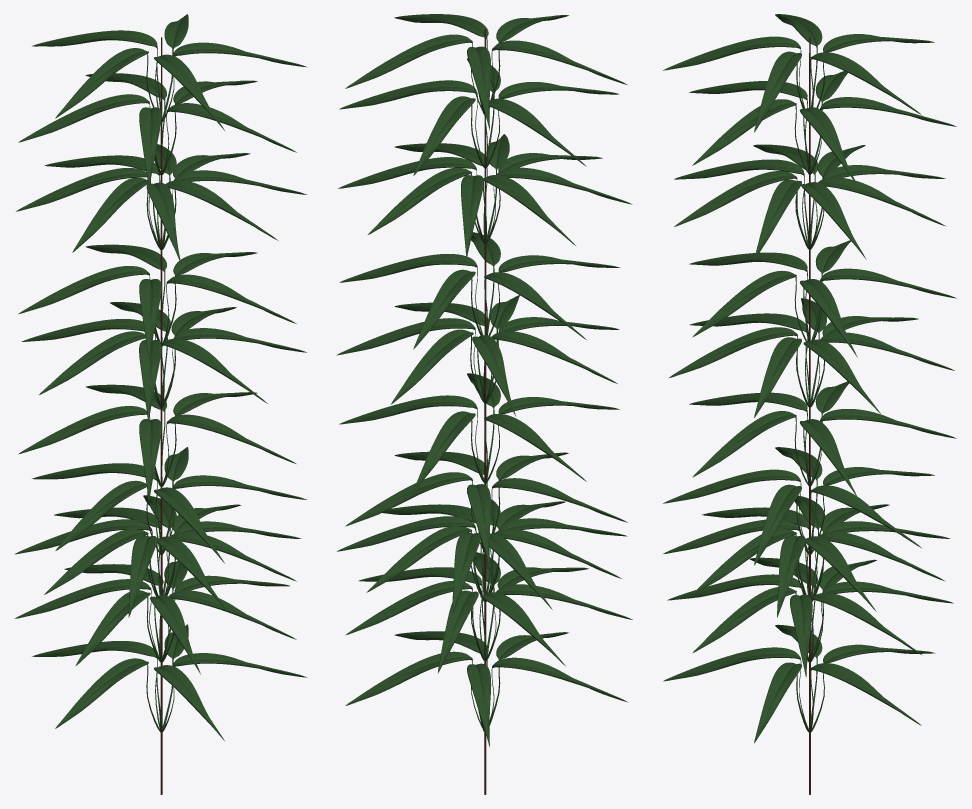
File: plant2.fbx
3 renders of one model, left to right at view 1: azimuth 30°, elevation 25°; view 2: azimuth 150°, elevation 25°; view 3: azimuth 270°, elevation 25°, orthographic.
Parts seen in each view (by area): view 1: Circle.022, Circle.021, Circle.019, Circle.014, Circle.020, Circle.017, Circle.015, Circle.016, Circle.012, Circle.018, plant2; view 2: Circle.022, Circle.021, Circle.019, Circle.014, Circle.017, Circle.016, Circle.020, Circle.018, Circle.012, Circle.015, plant2; view 3: Circle.022, Circle.021, Circle.019, Circle.014, Circle.020, Circle.017, Circle.016, Circle.015, Circle.012, Circle.018, plant2.
Boxes of the visible parts, x1=… form: Circle.022: x1=15, y1=495, x2=301, y2=617; Circle.021: x1=16, y1=144, x2=306, y2=264; Circle.019: x1=21, y1=302, x2=306, y2=422; Circle.014: x1=14, y1=561, x2=296, y2=674; Circle.020: x1=32, y1=14, x2=307, y2=130; Circle.017: x1=18, y1=244, x2=296, y2=361; Circle.015: x1=32, y1=447, x2=306, y2=563; Circle.016: x1=18, y1=384, x2=296, y2=501; Circle.012: x1=32, y1=624, x2=306, y2=740; Circle.018: x1=18, y1=73, x2=296, y2=189; plant2: x1=160, y1=37, x2=162, y2=794; Circle.022: x1=337, y1=492, x2=627, y2=615; Circle.021: x1=337, y1=134, x2=632, y2=258; Circle.019: x1=336, y1=295, x2=619, y2=416; Circle.014: x1=345, y1=552, x2=632, y2=673; Circle.017: x1=339, y1=232, x2=620, y2=349; Circle.016: x1=339, y1=373, x2=619, y2=490; Circle.020: x1=345, y1=14, x2=627, y2=130; Circle.018: x1=339, y1=58, x2=619, y2=175; Circle.012: x1=345, y1=631, x2=627, y2=747; Circle.015: x1=345, y1=451, x2=627, y2=567; plant2: x1=484, y1=29, x2=486, y2=794; Circle.022: x1=662, y1=495, x2=950, y2=617; Circle.021: x1=674, y1=144, x2=945, y2=260; Circle.019: x1=668, y1=298, x2=954, y2=417; Circle.014: x1=667, y1=557, x2=953, y2=677; Circle.020: x1=663, y1=14, x2=934, y2=132; Circle.017: x1=689, y1=240, x2=956, y2=357; Circle.016: x1=689, y1=381, x2=956, y2=497; Circle.015: x1=663, y1=447, x2=934, y2=565; Circle.012: x1=663, y1=624, x2=935, y2=743; Circle.018: x1=689, y1=71, x2=956, y2=185; plant2: x1=809, y1=37, x2=810, y2=794.
Size of the model in its own units: 74.33 by 210 by 74.36.
